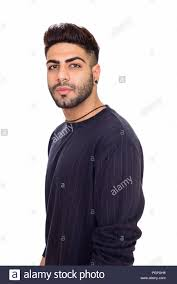Indian_Male: (46, 32, 99, 111)
